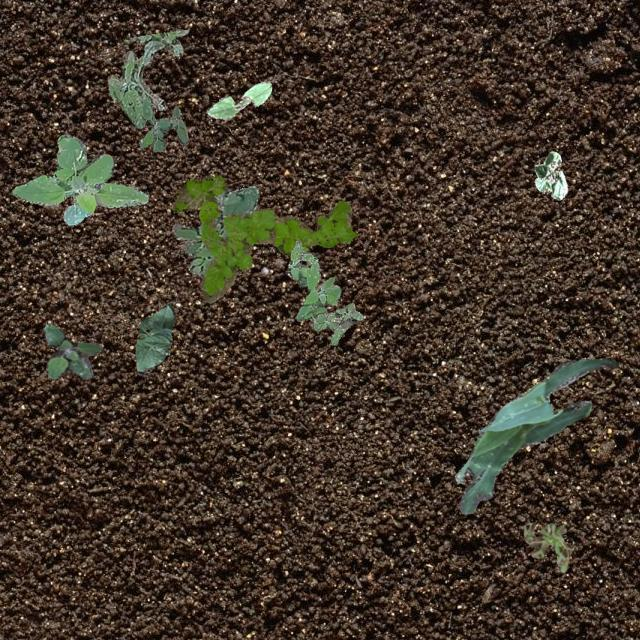crop: (454, 357, 616, 512), (134, 302, 174, 374), (206, 80, 270, 118), (534, 150, 566, 198)
weed: (172, 175, 356, 302), (12, 132, 148, 224), (106, 28, 188, 128), (172, 184, 258, 278), (288, 240, 362, 344), (42, 324, 102, 378), (138, 96, 188, 150), (522, 520, 572, 570)
